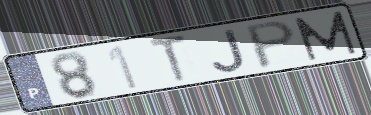1: (106, 43, 141, 91)
8: (48, 50, 100, 101)
J: (209, 26, 249, 73)
M: (291, 9, 361, 63)
P: (244, 19, 298, 72)
T: (147, 32, 190, 85)
